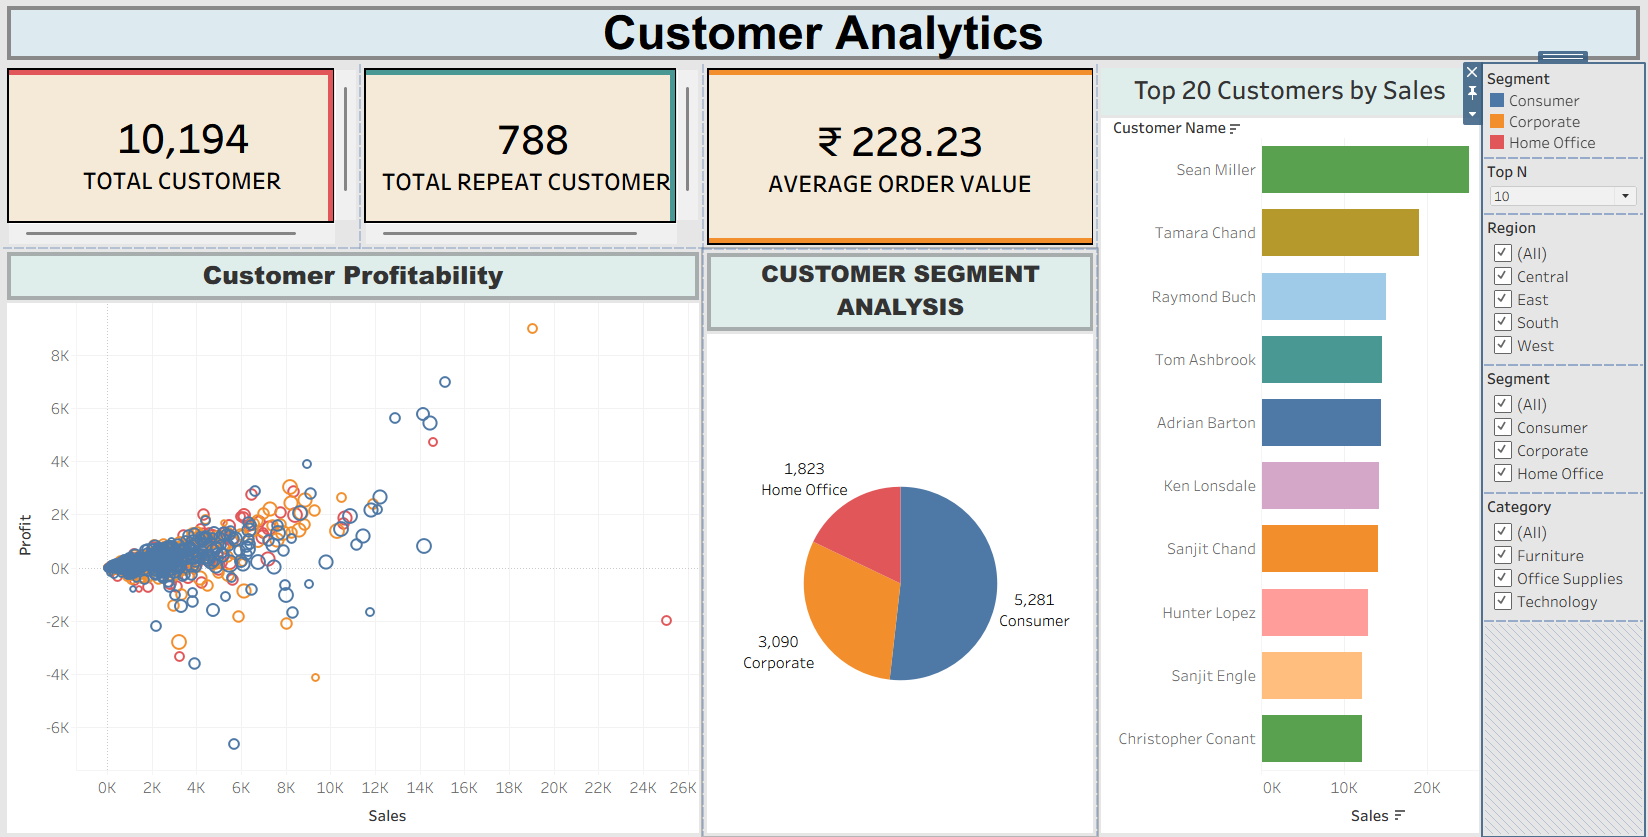

What the dashboard file says about the page in this screenshot:
{"tool":"tableau","page":{"name":"Customer Analytics","canvas":[1000,1000],"units":"permille","ordinal":0},"visuals":[{"type":"title","box":[4.8,9.4,990.3,72.9]},{"type":"worksheet","title":"TOTAL CUSTOMER","mark":"Automatic","box":[4.8,82.2,215.6,216.4]},{"type":"worksheet","title":"TOTL REP COS","mark":"Automatic","box":[220.4,82.2,206.7,216.4]},{"type":"worksheet","title":"AVG ORDER VALUE","mark":"Automatic","box":[427.1,82.2,238.1,216.8]},{"type":"worksheet","title":"TOP 20 COS BY SALES","mark":"Automatic","rows":["Customer Name"],"cols":["Sales"],"box":[665.2,82.2,232.8,908.4]},{"type":"legend","title":"CUS SEGM ANALYSIS","param":"[federated.11aeaxj0xg2ykf155qtt01831f89].[none:Segment:nk]","box":[898,82.2,97.2,109.3]},{"type":"parameter","param":"[Parameters].[Parameter 0807371301195778]","box":[898,191.5,97.2,65.8]},{"type":"filter","title":"CUS SEGM ANALYSIS","param":"[federated.11aeaxj0xg2ykf155qtt01831f89].[none:Region:nk]","box":[898,257.3,97.2,177.4]},{"type":"worksheet","title":"Customer Profitability","mark":"Automatic","rows":["Profit"],"cols":["Sales"],"box":[4.8,298.7,422.2,691.9]},{"type":"worksheet","title":"CUS SEGM ANALYSIS","mark":"Pie","box":[427.1,299.1,238.1,691.5]},{"type":"filter","title":"CUS SEGM ANALYSIS","param":"[federated.11aeaxj0xg2ykf155qtt01831f89].[none:Segment:nk]","box":[898,434.8,97.2,150.4]},{"type":"filter","title":"CUS SEGM ANALYSIS","param":"[federated.11aeaxj0xg2ykf155qtt01831f89].[none:Category:nk]","box":[898,585.2,97.2,150.4]}]}

Visuals, with their boxes on the dashboard's canvas, which has no fixed pixel size, in thousandths of its width and height (x1, y1, x2, y2). These are canvas units, not pixel positions in the 1648x837 screenshot, which may show the page scaled, cropped or inside an application window:
title: crop(5, 9, 995, 82)
"TOTAL CUSTOMER" worksheet: crop(5, 82, 220, 299)
"TOTL REP COS" worksheet: crop(220, 82, 427, 299)
"AVG ORDER VALUE" worksheet: crop(427, 82, 665, 299)
"TOP 20 COS BY SALES" worksheet: crop(665, 82, 898, 991)
"CUS SEGM ANALYSIS" legend: crop(898, 82, 995, 192)
parameter: crop(898, 192, 995, 257)
"CUS SEGM ANALYSIS" filter: crop(898, 257, 995, 435)
"Customer Profitability" worksheet: crop(5, 299, 427, 991)
"CUS SEGM ANALYSIS" worksheet (Pie marks): crop(427, 299, 665, 991)
"CUS SEGM ANALYSIS" filter: crop(898, 435, 995, 585)
"CUS SEGM ANALYSIS" filter: crop(898, 585, 995, 736)
